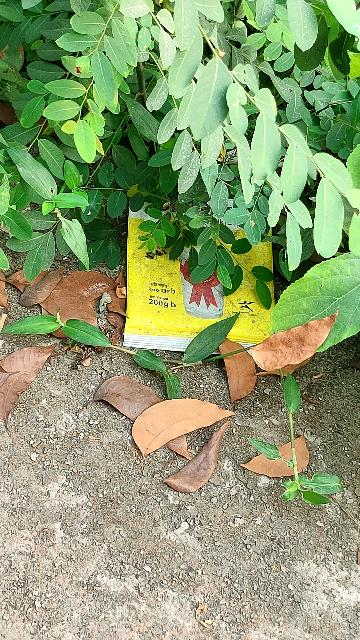packet: (105, 186, 287, 369)
